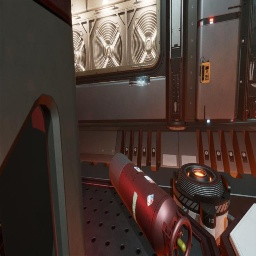EmergencyPhone ,: (199, 57, 210, 83)
NitrogenTank ,: (109, 152, 192, 256)
